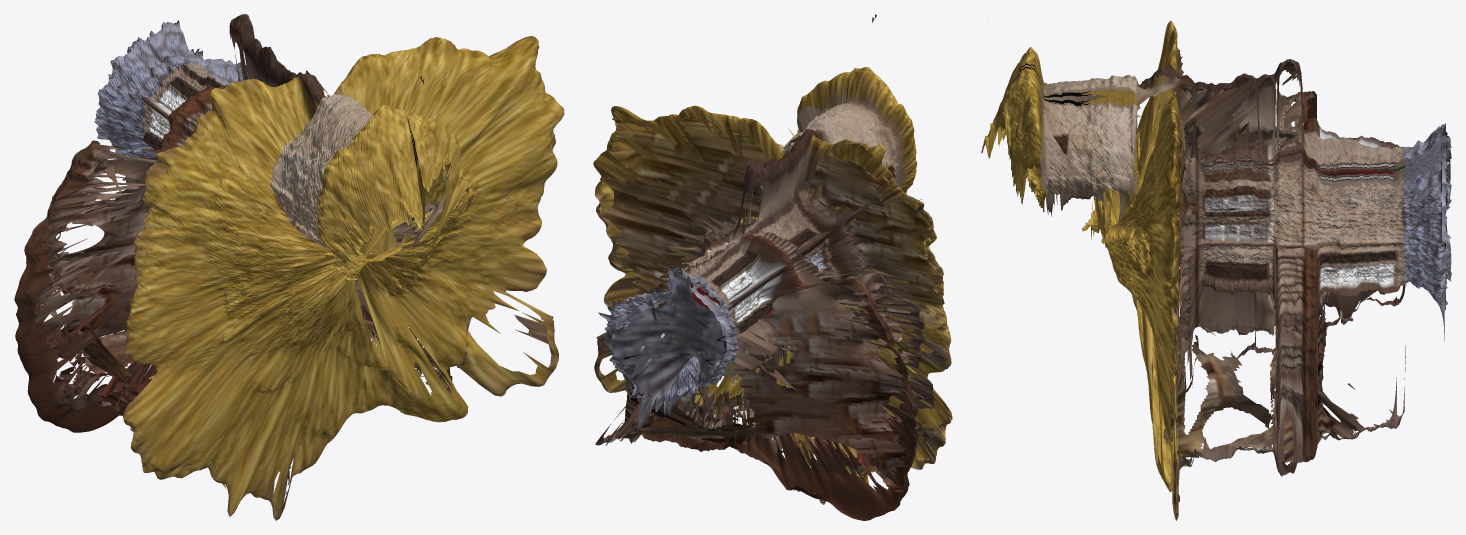
Rendered from detail_mesh.glb.
3 views of the same model, side by side, from view 1: azimuth 30°, elevation 25°; view 2: azimuth 150°, elevation 25°; view 3: azimuth 270°, elevation 25° (orthographic). The views are drawn at different scales.
Visible parts, largest first — view 1: ipn, fill; view 2: ipn, fill; view 3: ipn, fill.
Part boxes in pixels (x1,y1,x2,y2): ipn: (14, 14, 564, 520); fill: (26, 47, 498, 494); ipn: (593, 14, 952, 520); fill: (598, 117, 943, 496); ipn: (981, 21, 1447, 520); fill: (1097, 49, 1451, 475).
Bounding box in the file's own units: 1.15 × 1.19 × 1.07.
2 materials, 1 textured.
